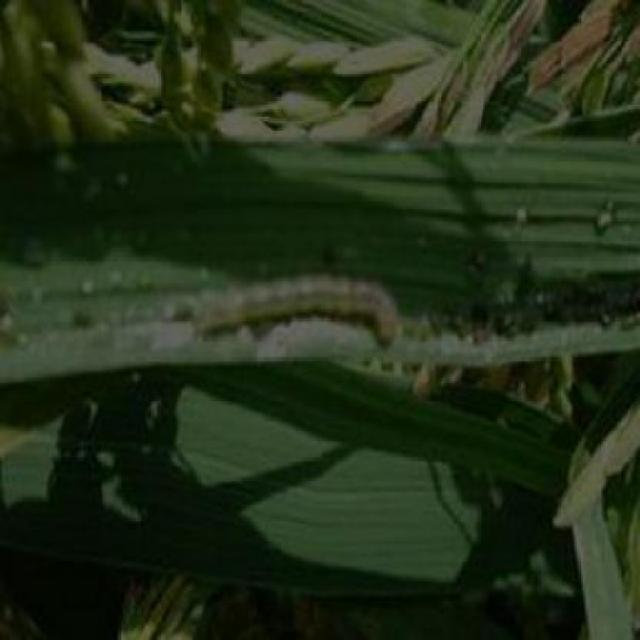leaf-folder: (177, 260, 434, 354)
